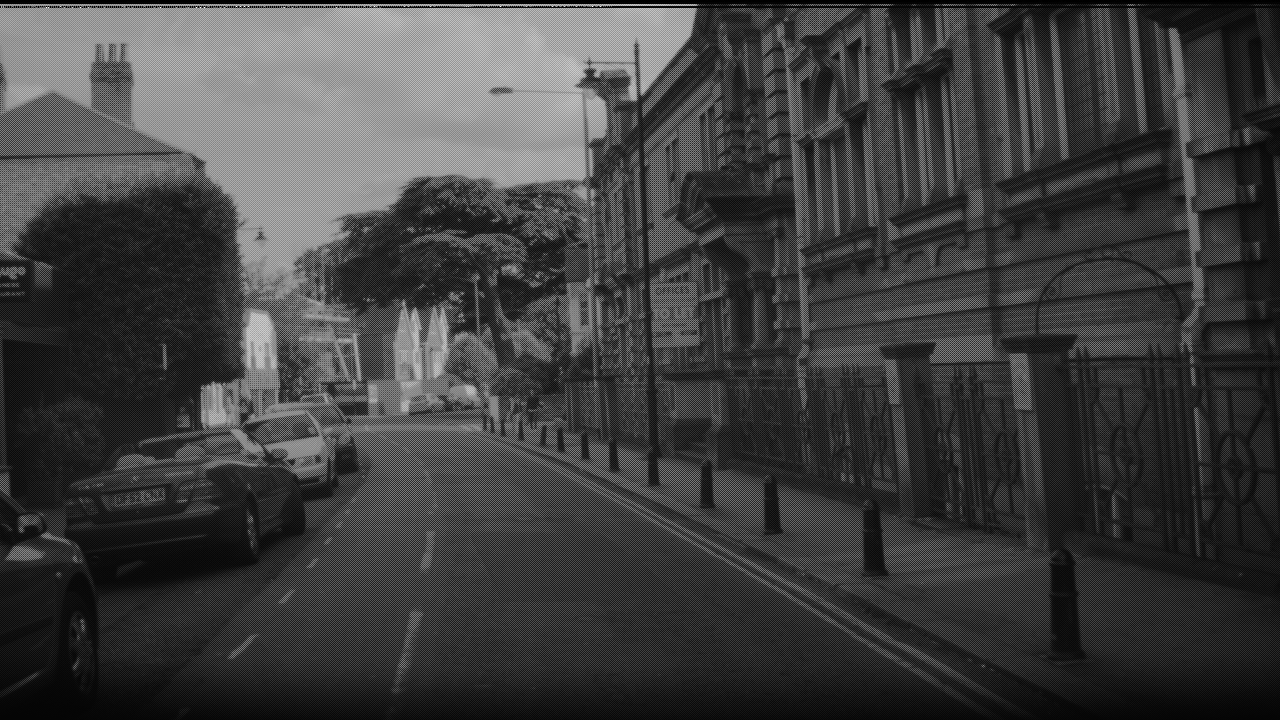pole: (617, 32, 646, 447), (680, 84, 698, 373)
